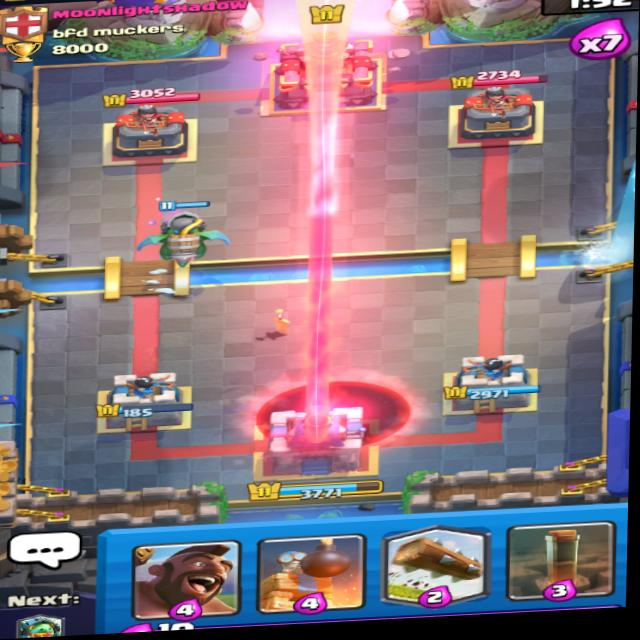void: (248, 377, 412, 454)
